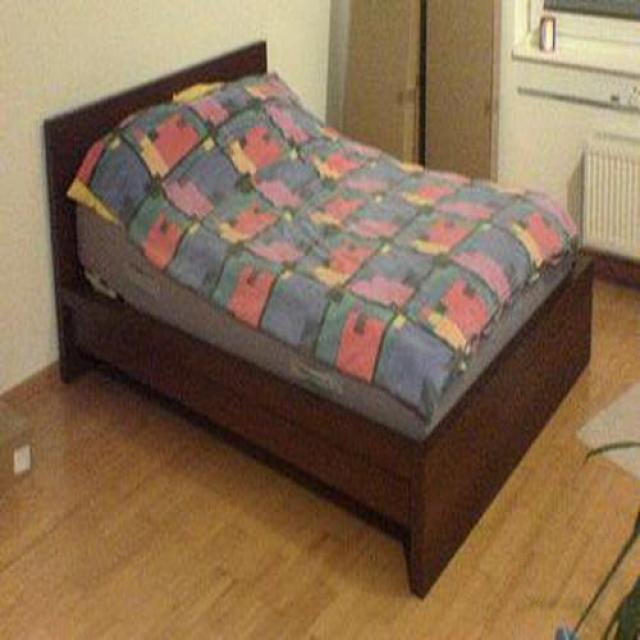bed: (44, 41, 595, 600)
